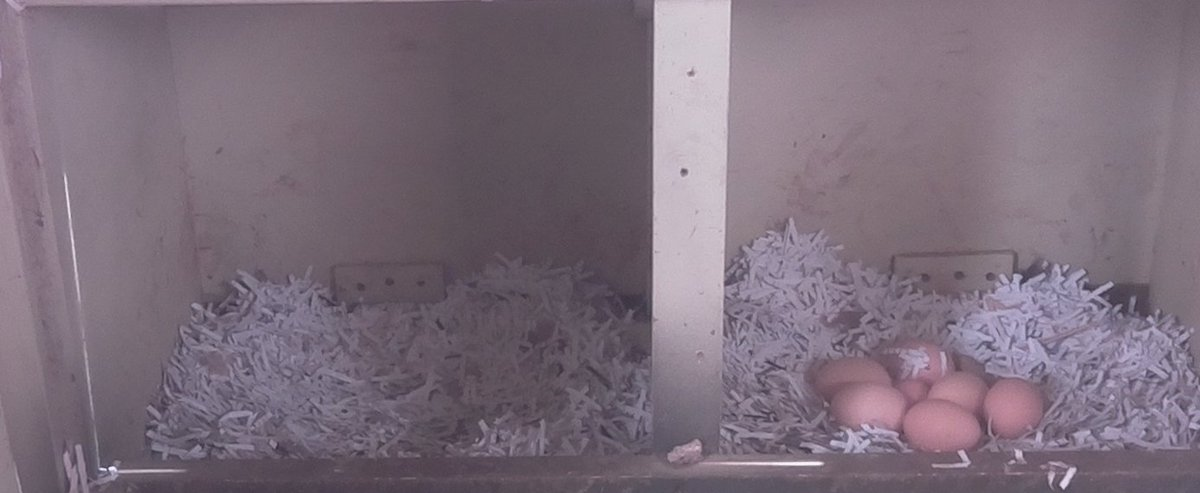egg: (893, 397, 992, 461), (990, 371, 1055, 448), (822, 376, 904, 433), (928, 363, 993, 422), (808, 353, 895, 394), (887, 337, 960, 383), (949, 349, 1001, 391), (883, 377, 941, 410)
